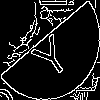Y: (25, 25, 73, 82)
